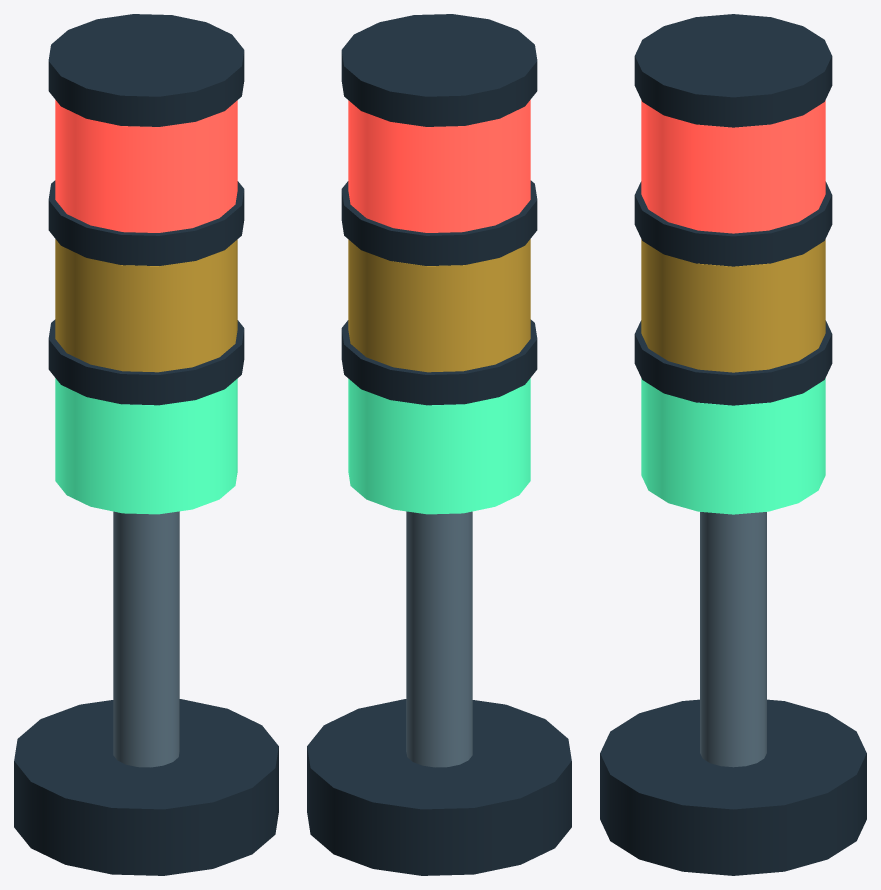
Rendered from alarm-light.4aa462b51df9.glb.
The picture shows the model from 3 angles, left to right: view 1: azimuth 30°, elevation 25°; view 2: azimuth 150°, elevation 25°; view 3: azimuth 270°, elevation 25°; orthographic projection.
Parts seen in each view (by area): view 1: mount_0002, signal_0004, signal_0006, signal_0008, separator_0009, pole_0003, separator_0005, separator_0007; view 2: mount_0002, signal_0004, signal_0006, signal_0008, separator_0009, pole_0003, separator_0005, separator_0007; view 3: mount_0002, signal_0004, signal_0006, signal_0008, separator_0009, pole_0003, separator_0007, separator_0005.
Boxes of the visible parts, x1=… form: mount_0002: x1=14, y1=699, x2=278, y2=875; signal_0004: x1=55, y1=378, x2=237, y2=514; signal_0006: x1=55, y1=239, x2=237, y2=372; signal_0008: x1=55, y1=100, x2=237, y2=232; separator_0009: x1=48, y1=14, x2=244, y2=126; pole_0003: x1=113, y1=511, x2=179, y2=767; separator_0005: x1=48, y1=319, x2=244, y2=405; separator_0007: x1=48, y1=180, x2=244, y2=265; mount_0002: x1=307, y1=699, x2=571, y2=875; signal_0004: x1=348, y1=378, x2=530, y2=514; signal_0006: x1=348, y1=239, x2=530, y2=372; signal_0008: x1=348, y1=100, x2=530, y2=232; separator_0009: x1=341, y1=14, x2=537, y2=126; pole_0003: x1=406, y1=511, x2=472, y2=767; separator_0005: x1=341, y1=319, x2=537, y2=405; separator_0007: x1=341, y1=180, x2=537, y2=265; mount_0002: x1=600, y1=699, x2=866, y2=875; signal_0004: x1=641, y1=378, x2=825, y2=514; signal_0006: x1=641, y1=239, x2=825, y2=372; signal_0008: x1=641, y1=100, x2=825, y2=233; separator_0009: x1=634, y1=14, x2=832, y2=127; pole_0003: x1=700, y1=512, x2=766, y2=767; separator_0007: x1=634, y1=181, x2=832, y2=266; separator_0005: x1=634, y1=320, x2=832, y2=405.
Bounding box in the file's own units: 0.2 × 0.632 × 0.2.
